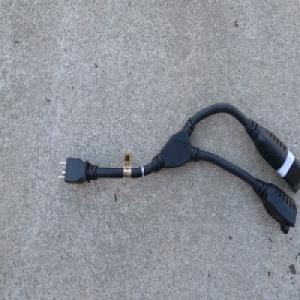Wire: (56, 101, 300, 235)
